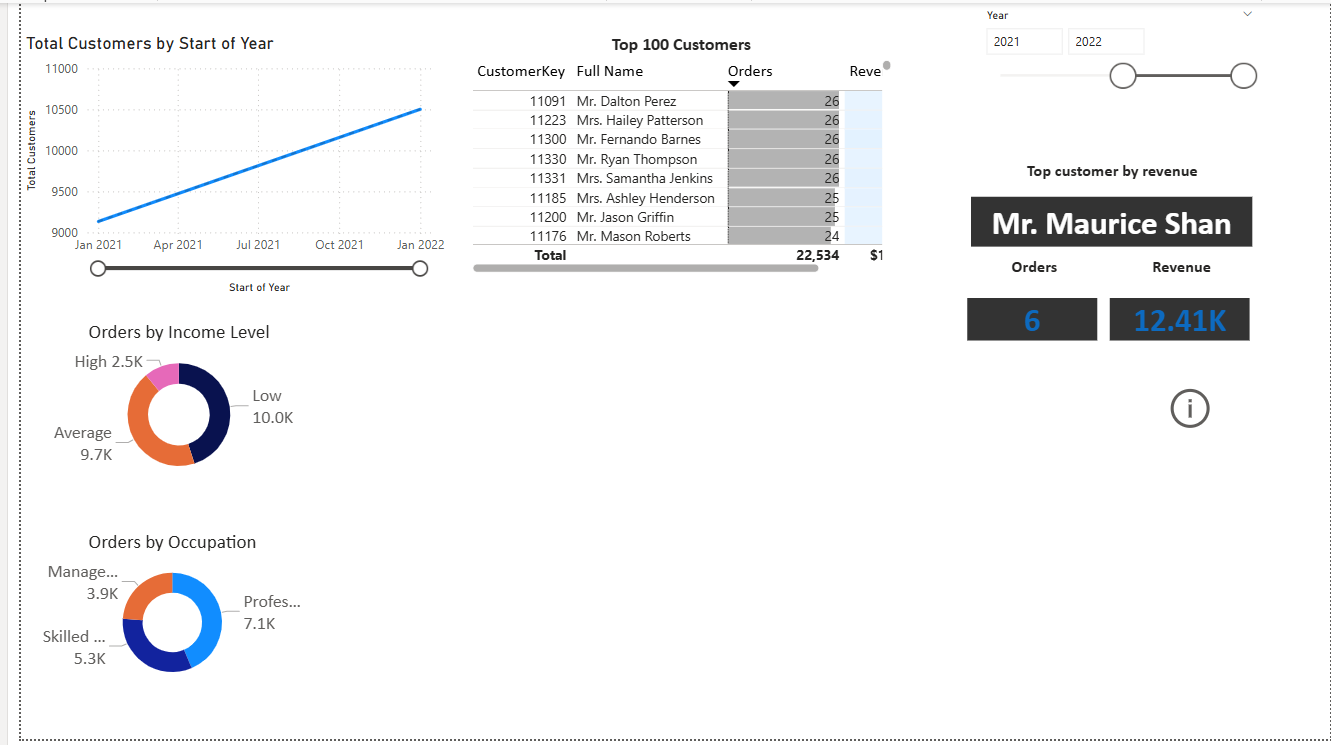

Layout of this report page (visuals, bound fields, positions):
{"tool":"powerbi","page":{"name":"Customer Detail","canvas":[1280,720],"ordinal":3},"visuals":[{"type":"lineChart","fields":{"Category":["Calendar Lookup.Date Hierarcy.Start of Year","Calendar Lookup.Date Hierarcy.Start of Month","Calendar Lookup.Date Hierarcy.Start of Week","Calendar Lookup.Date Hierarcy.Date"],"Y":["Measure Table.Total Customers"]},"box":[0,28.9,419.8,258.3],"z":0},{"type":"donutChart","title":"Orders by Income Level","fields":{"Category":["Customer Lookup.Income Level"],"Y":["Measure Table.Total Orders"]},"box":[11.4,310,287.3,162.1],"z":1000},{"type":"donutChart","title":"Orders by Occupation","fields":{"Category":["Customer Lookup.Occupation"],"Y":["Measure Table.Total Orders"]},"box":[11.4,516.3,274.5,157.9],"z":2000},{"type":"tableEx","title":"Top 100 Customers","fields":{"Values":["Customer Lookup.CustomerKey","Customer Lookup.Full Name","Measure Table.Total Orders","Measure Table.Total Revenue"]},"box":[435.7,28.9,421.3,239.5],"z":3000},{"type":"card","fields":{"Values":["Measure Table.Full Name (Customer Detail)"]},"box":[929.1,189.9,275.6,49.1],"z":4000},{"type":"card","fields":{"Values":["Measure Table.Total Orders (Customer Detail)"]},"box":[926.3,288,127,41.8],"z":5000},{"type":"card","fields":{"Values":["Measure Table.Total Revenue (Customer Detail)"]},"box":[1064.8,288,137.1,41.8],"z":6000},{"type":"textbox","box":[971,149.5,193.3,28.9],"z":7000},{"type":"textbox","box":[929.1,243.3,124.1,28.9],"z":8000},{"type":"textbox","box":[1064.8,243.3,137.1,28.9],"z":9000},{"type":"slicer","fields":{"Values":["Calendar Lookup.Year"]},"box":[932,0,285.7,106.8],"z":10000},{"type":"actionButton","box":[1118.6,371.7,60,49.7],"z":11000}]}

Visuals, with their boxes in screenshot pixels (x1, y1, x2, y2), scaled from the page's 1280x720 canvas onto the 1331x745 screenshot:
lineChart - Calendar Lookup.Date Hierarcy.Start of Year x Calendar Lookup.Date Hierarcy.Start of Month: bbox(0, 30, 437, 297)
"Orders by Income Level" donutChart: bbox(12, 321, 311, 488)
"Orders by Occupation" donutChart: bbox(12, 534, 297, 698)
"Top 100 Customers" tableEx: bbox(453, 30, 891, 278)
card - Measure Table.Full Name (Customer Detail): bbox(966, 196, 1253, 247)
card - Measure Table.Total Orders (Customer Detail): bbox(963, 298, 1095, 341)
card - Measure Table.Total Revenue (Customer Detail): bbox(1107, 298, 1250, 341)
textbox: bbox(1010, 155, 1211, 185)
textbox: bbox(966, 252, 1095, 282)
textbox: bbox(1107, 252, 1250, 282)
slicer - Calendar Lookup.Year: bbox(969, 0, 1266, 111)
actionButton: bbox(1163, 385, 1226, 436)
